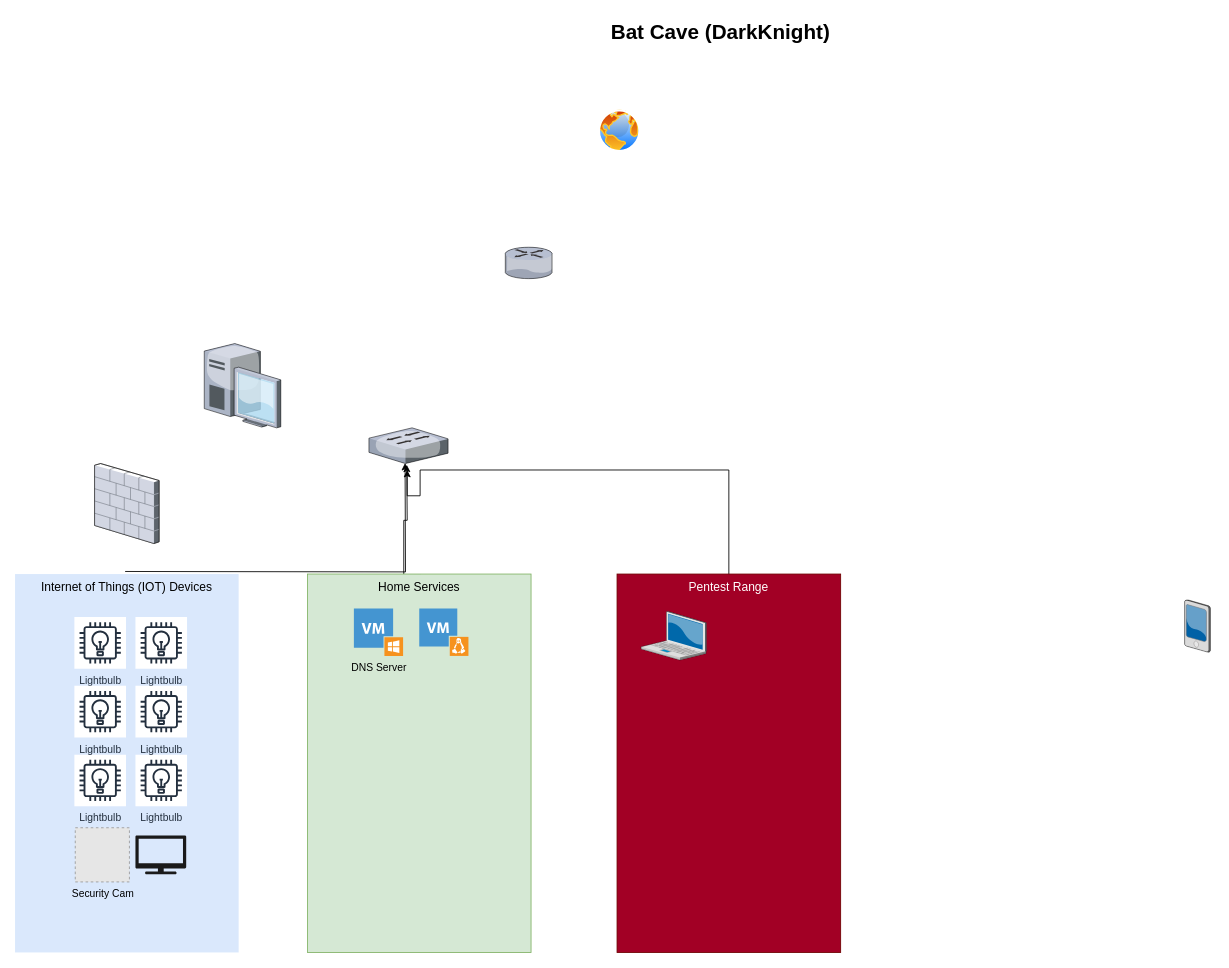
The diagram is 1229 pixels wide and 968 high, and some of its shapes have lost their labels. Grey dashed boxes stand in for pictures. Here are the shapes that lost their labels. From the top down, the centre of each, then its label:
At pixel 242 385: "Client".
At pixel 443 631: "File Share".
At pixel 673 635: "Kali Laptop".
At pixel 1197 625: "Phone".
At pixel 160 854: "Smart TV".
